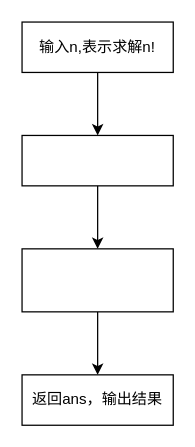
Some shapes in this 195 by 447 pixel diagram are drawn without their labels. The centre of each missing label's shape, as x and y in pixels:
"创建长整型ans=1; 循环i从1到n,并乘到ans上,得到答案ans" goes at point 97,280.
"进入factorial函数" goes at point 97,160.
